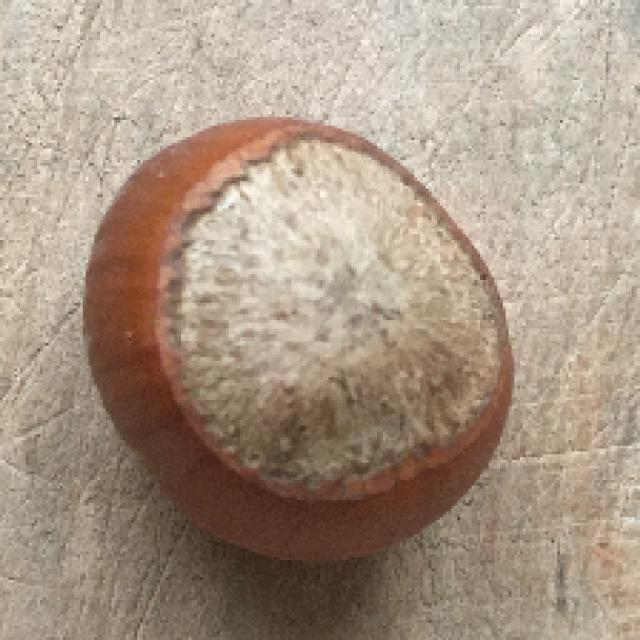qualityHazelnut: (82, 114, 514, 570)
